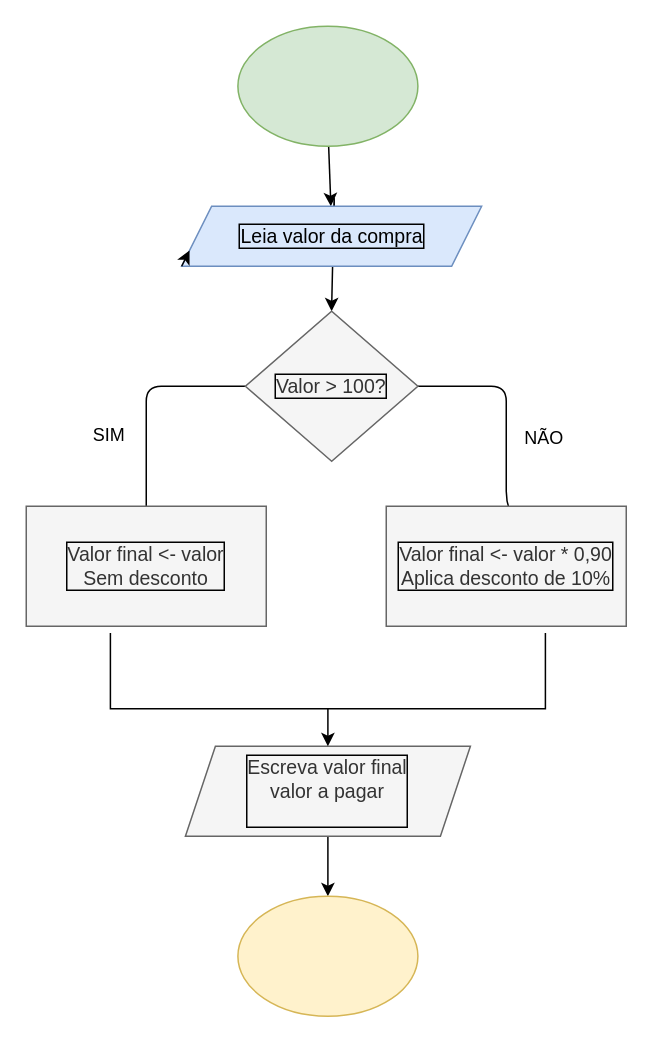
This 653x1043 diagram has some shape labels left out. The shapes that lost their labels are listed below. From the top down, each one's centre as x and y in pixels, then its label:
(327,85): inicio
(327,955): Fim
